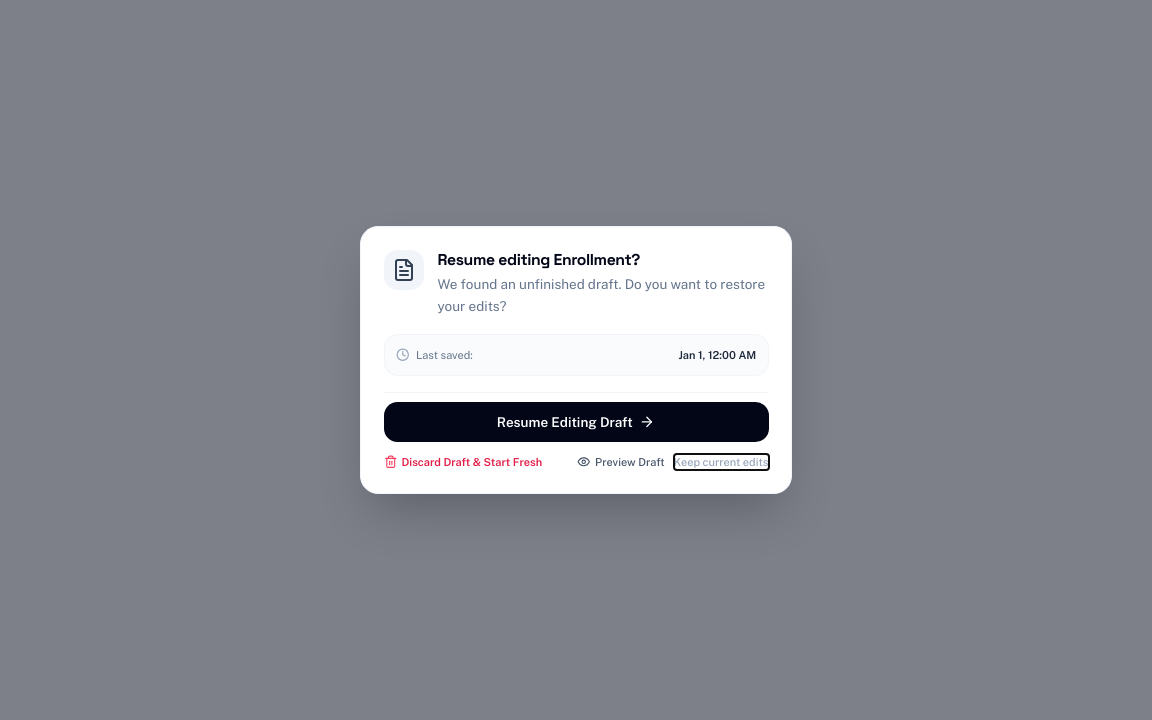
Scenario: departure handshake and accessibility › recovery discard failures remain visible and Resume is disabled while discarding
The image size is (1152, 720).
Click the button "Preview Draft" at (621, 462), box [577, 454, 665, 470]
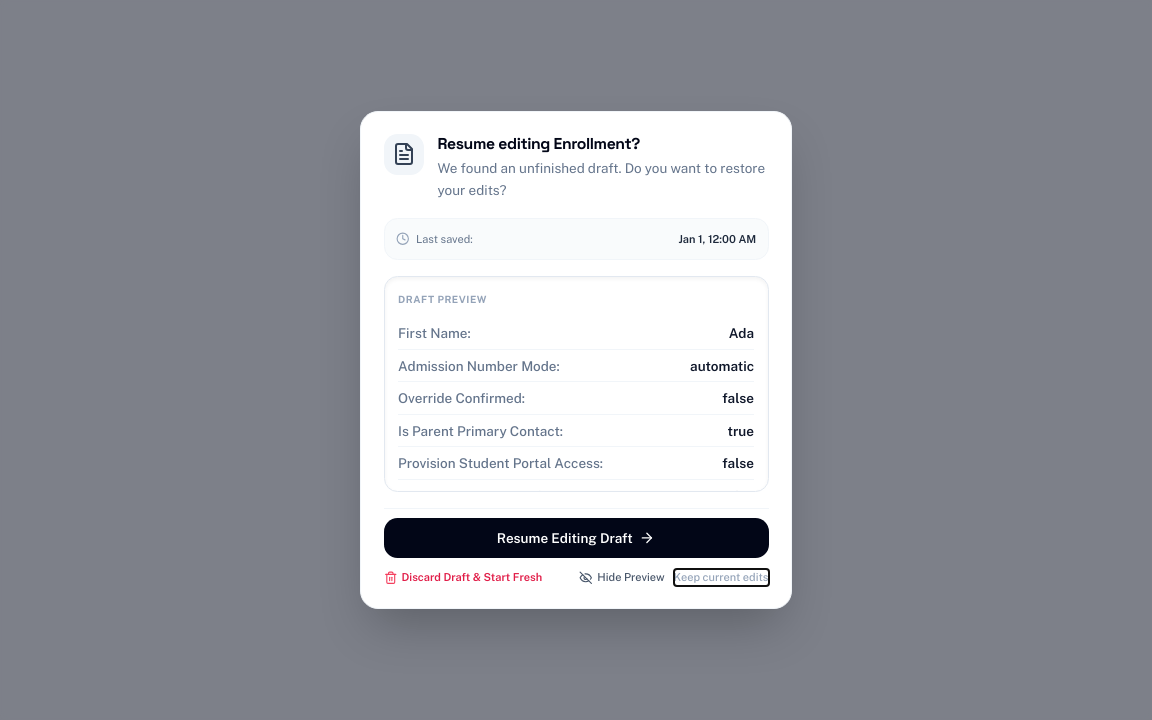
Click the button "Discard Draft & Start Fresh" at (463, 578), box [384, 569, 542, 586]
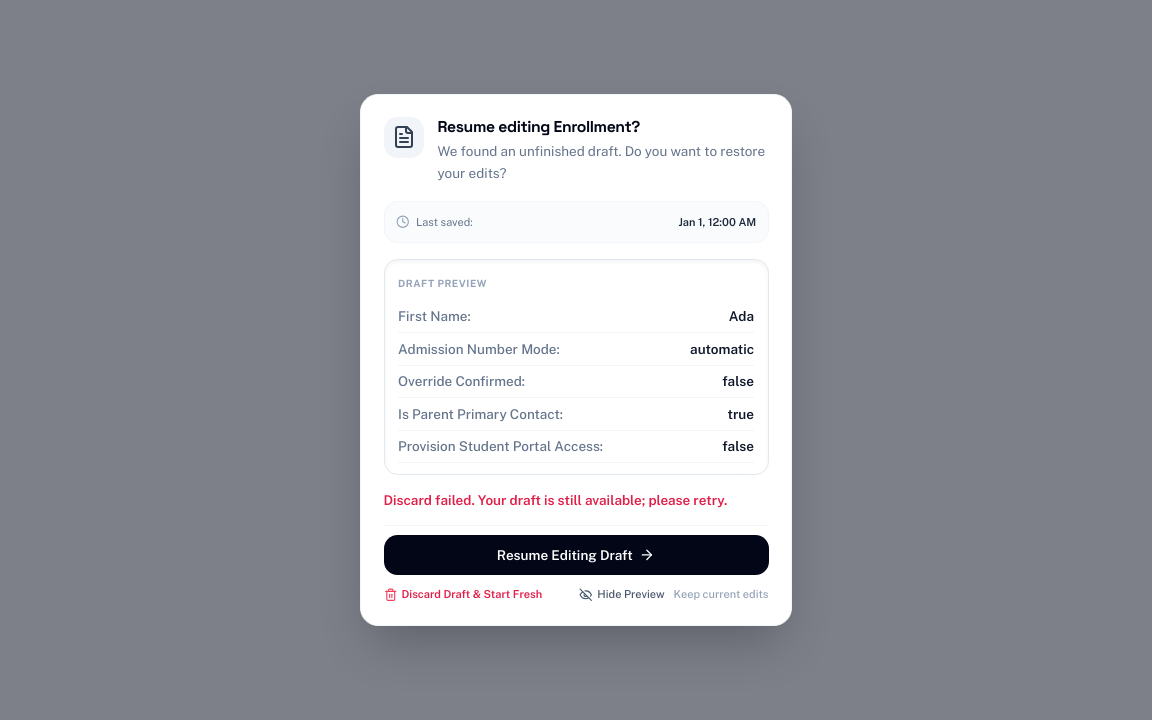
Check: the message shows "Discard failed", box [384, 492, 727, 508]
